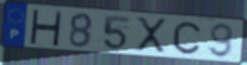5: (102, 14, 133, 51)
8: (67, 12, 95, 49)
9: (208, 22, 236, 59)
C: (172, 20, 203, 56)
H: (28, 8, 64, 48)
X: (135, 16, 168, 54)
